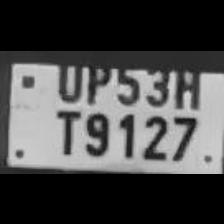1: (112, 106, 138, 158)
2: (136, 110, 168, 160)
3: (142, 56, 170, 104)
5: (110, 56, 142, 104)
7: (166, 109, 198, 163)
9: (80, 106, 110, 158)
H: (168, 55, 202, 107)
P: (82, 54, 110, 102)
T: (48, 105, 80, 156)
U: (52, 52, 82, 100)
